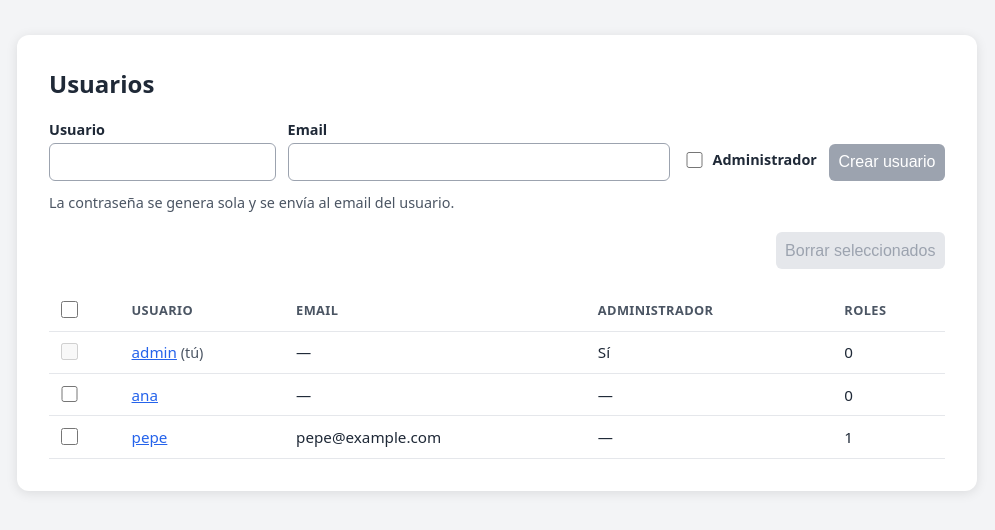
Test case: Usuarios (listado y alta) › borra en lote tras confirmar
This screenshot has width=995, height=530.
Expected: the button "Borrar seleccionados" is disabled, [776,232,945,269]
Click the checkbox named "Seleccionar pepe". click: x=69, y=436
box: [61,428,78,445]
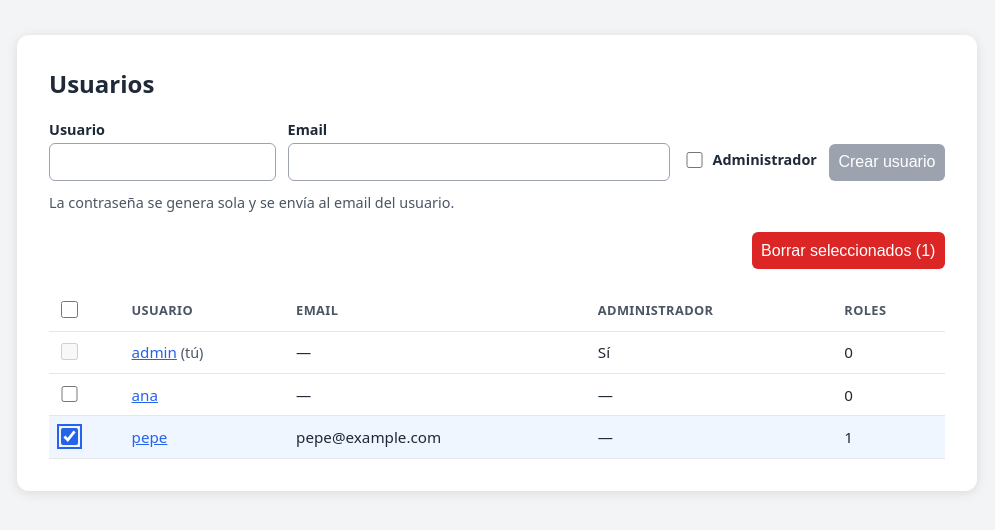
Click the checkbox named "Seleccionar ana". click: x=69, y=394
box: [61,386,78,402]
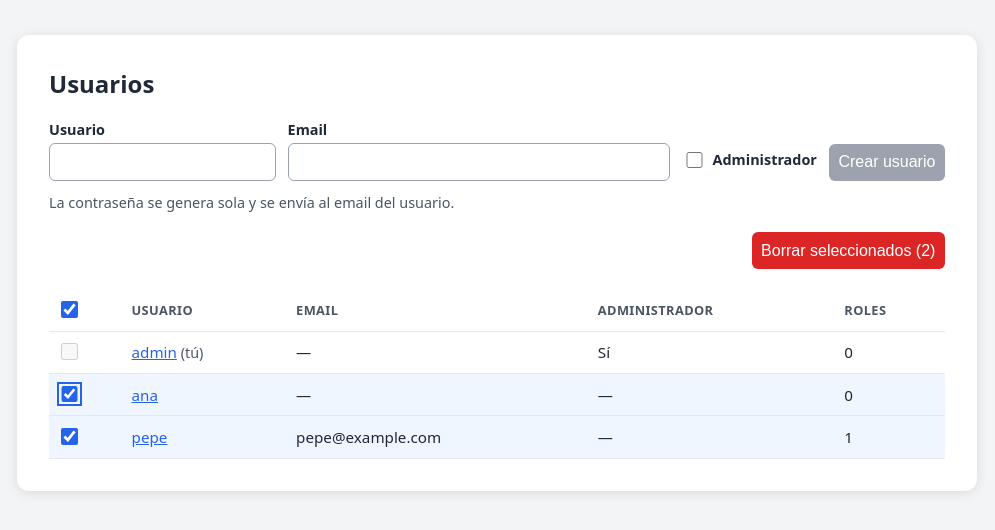
Click the button "Borrar seleccionados (2)". click: x=848, y=250
box: [752,232,945,269]
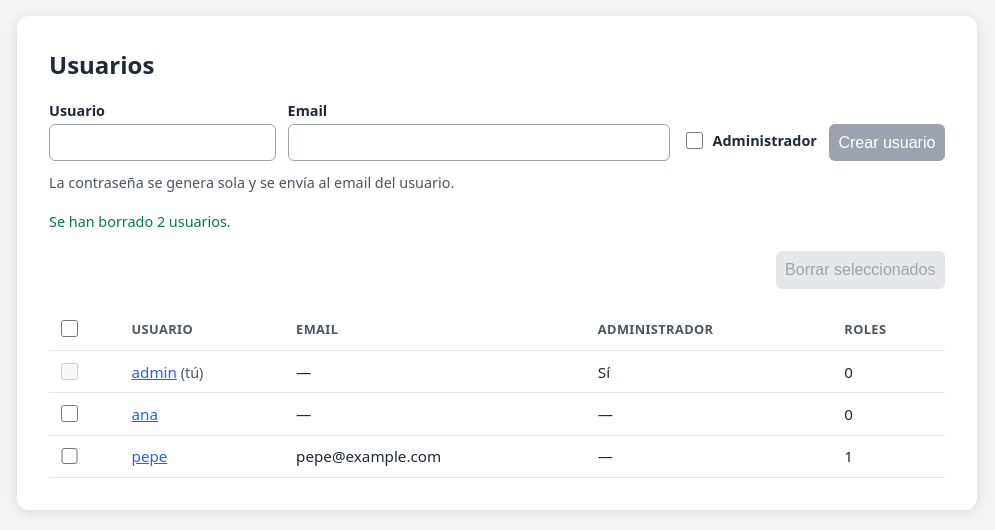
Now the message reads "Se han borrado 2 usuarios.", box [49,212,231,231]
